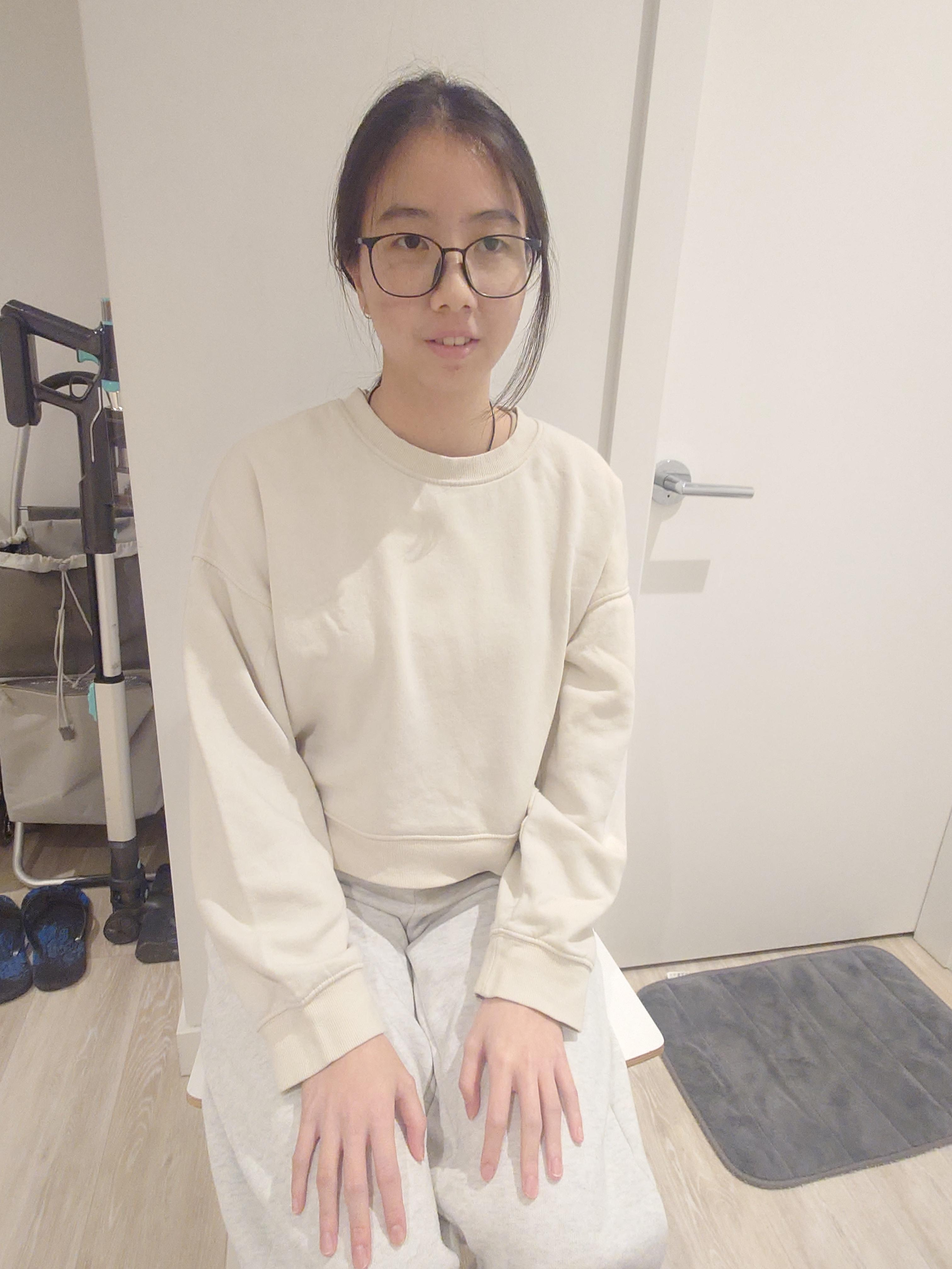GoodPosture: (177, 73, 673, 1269)
